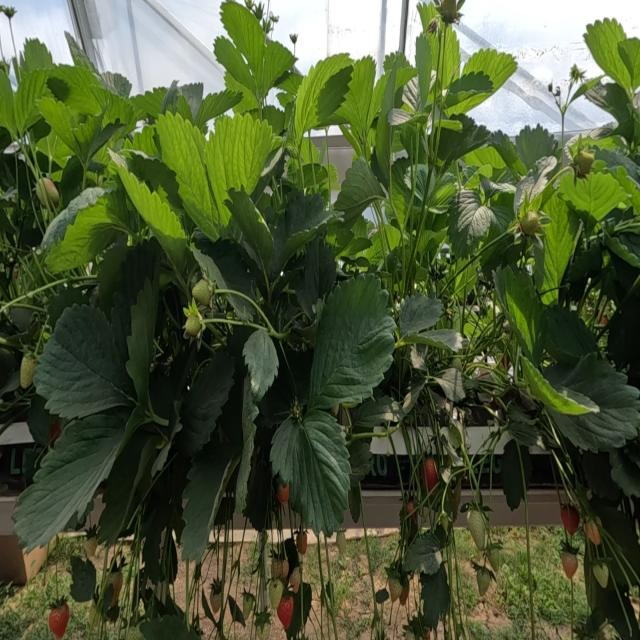Flowers: (0, 4, 17, 21), (269, 11, 279, 30), (289, 34, 297, 46)
Leaves: (14, 408, 127, 549), (34, 305, 135, 418), (309, 278, 396, 408), (270, 401, 351, 536), (205, 113, 282, 243), (545, 354, 640, 452), (45, 177, 140, 273), (157, 114, 219, 239), (98, 428, 158, 543), (180, 444, 237, 562), (290, 54, 353, 149), (179, 351, 234, 456), (111, 246, 158, 361), (270, 193, 332, 276), (533, 195, 580, 303), (193, 241, 255, 319), (493, 265, 543, 361), (590, 496, 640, 590), (448, 190, 510, 257), (584, 18, 631, 98), (335, 157, 386, 226), (51, 57, 112, 114), (229, 190, 273, 269), (336, 56, 375, 145), (235, 376, 258, 513), (541, 306, 598, 361), (221, 2, 265, 73), (296, 238, 336, 315), (12, 69, 54, 136), (242, 330, 279, 402), (463, 49, 517, 94), (514, 156, 557, 209), (38, 97, 78, 153), (501, 439, 531, 510), (214, 36, 254, 89), (420, 563, 450, 629), (581, 452, 621, 501), (516, 124, 557, 170), (399, 294, 442, 337), (352, 396, 404, 431), (263, 40, 296, 92), (350, 440, 371, 520), (404, 533, 442, 575), (403, 164, 435, 204), (416, 34, 432, 111), (448, 71, 493, 98), (70, 556, 96, 602), (506, 417, 541, 447), (435, 368, 465, 402), (418, 329, 462, 352), (101, 71, 132, 96), (387, 108, 413, 126)
Strawberries: (467, 510, 487, 551), (48, 603, 69, 638), (36, 178, 59, 208), (438, 0, 464, 24), (420, 458, 438, 492), (474, 565, 493, 597), (20, 356, 38, 389), (561, 505, 580, 535), (583, 516, 602, 546), (519, 211, 541, 236), (192, 279, 212, 306), (277, 596, 293, 629), (268, 579, 283, 614), (574, 151, 594, 177), (209, 577, 223, 613), (561, 551, 578, 580), (109, 571, 123, 606), (593, 561, 609, 588), (271, 558, 289, 581), (336, 528, 346, 568), (242, 591, 255, 620), (184, 315, 201, 337), (487, 549, 503, 572), (83, 536, 98, 559), (288, 568, 300, 593), (256, 623, 271, 639), (277, 483, 289, 503), (299, 531, 307, 555)
